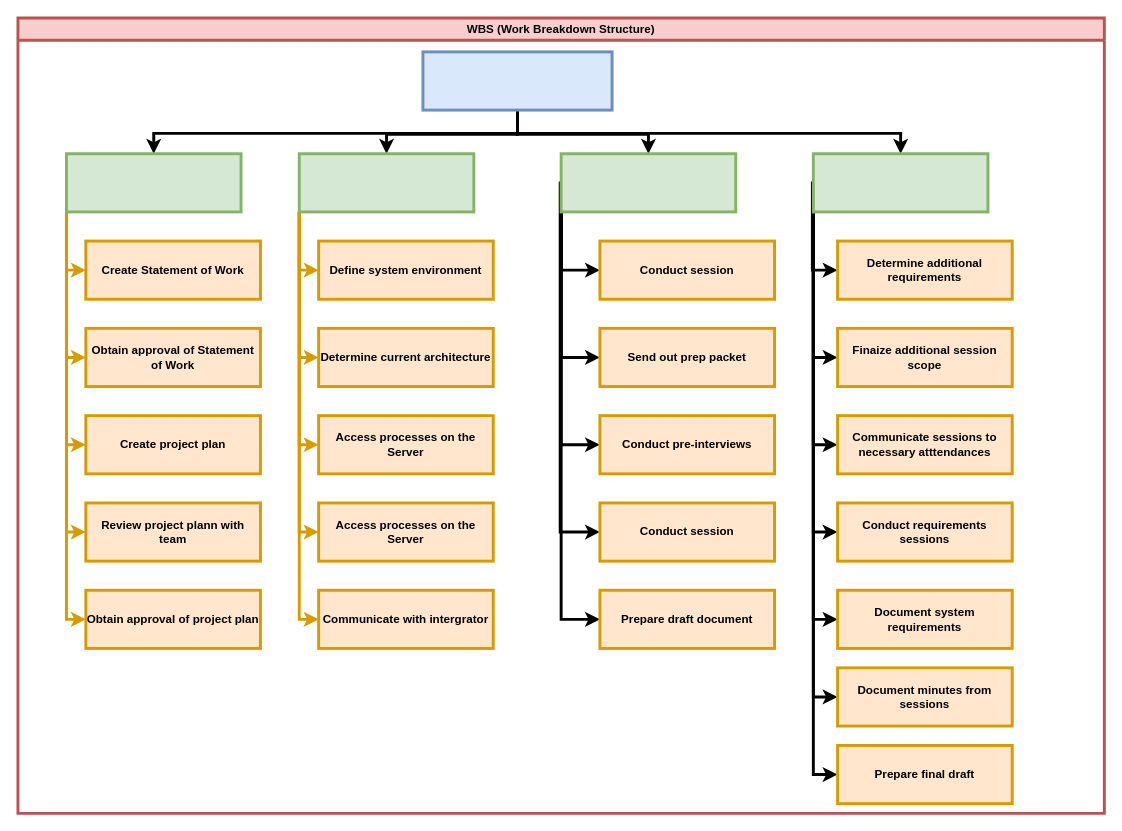
The diagram is 1122 pixels wide and 831 high, and some of its shapes have lost their labels. The centre of each missing label's shape, as x and y in pixels:
"Build Project Plan" goes at pixel 153 182.
"Complete architecture draft" goes at pixel 648 182.
"Finalize project plan and defination" goes at pixel 386 182.
"Send out draft and review with key sponsors" goes at pixel 900 182.
"Software System Implementation" goes at pixel 517 80.
